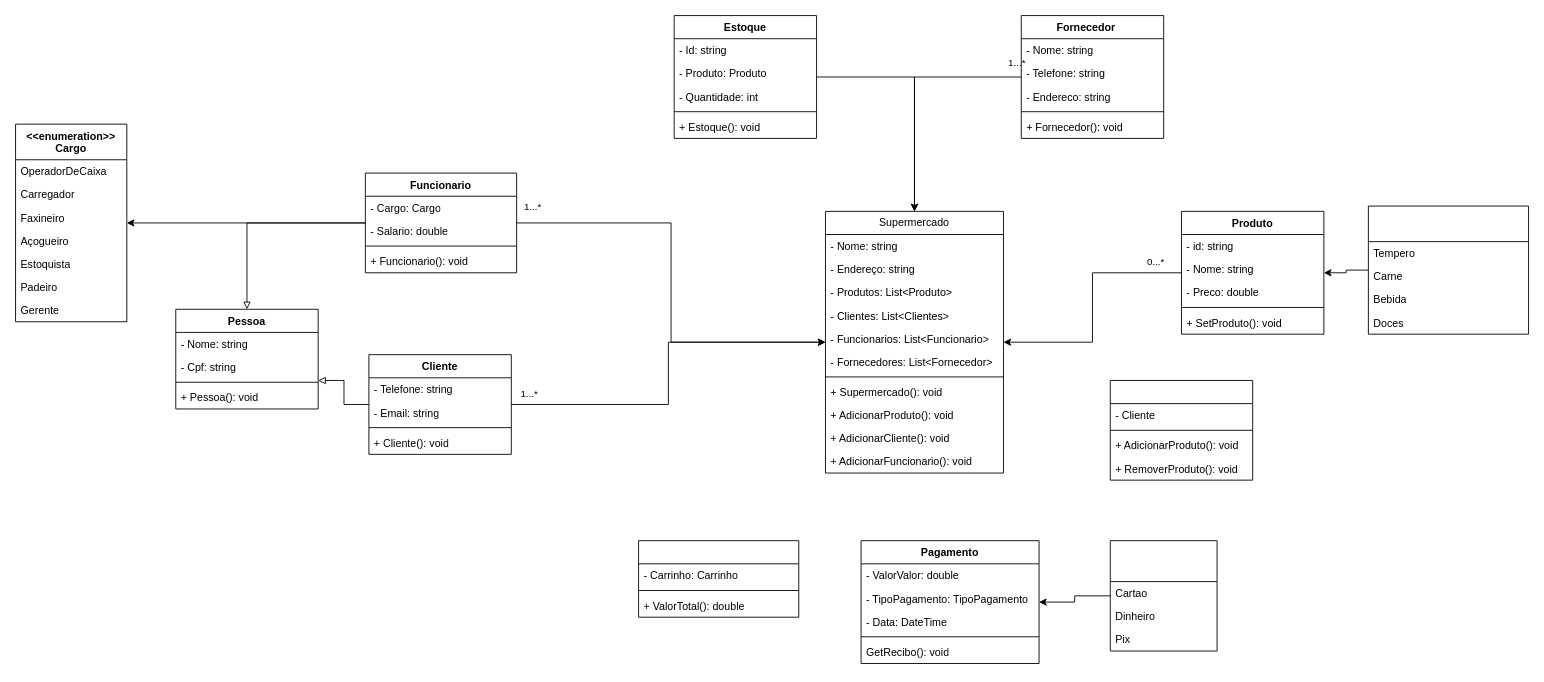
Some shapes in this 1544 by 682 pixel diagram are drawn without their labels. Here are the shapes that lost their labels. From the top down, the box of each, then its label:
(1367, 205, 1529, 334): <<enumeration>> Categoria
(1109, 380, 1253, 480): Carrinho
(638, 540, 799, 617): Venda
(1109, 540, 1217, 651): <<enumeration>> TipoPagamento
